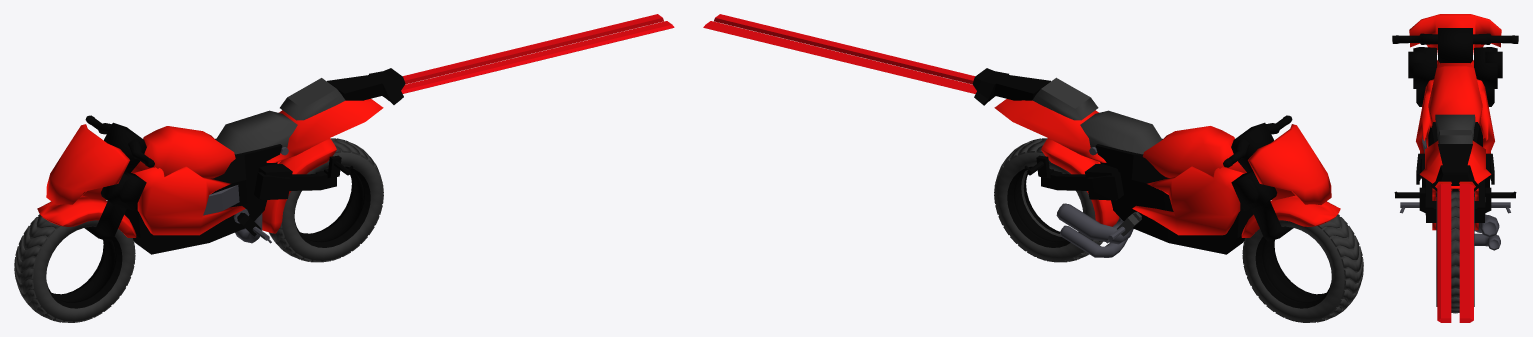
The model's file is moto.glb.
3 views of the same model, side by side, from view 1: azimuth 30°, elevation 25°; view 2: azimuth 150°, elevation 25°; view 3: azimuth 270°, elevation 25° (orthographic).
Visible parts, largest first — view 1: moto, helm, wheel, wheel_front, trace; view 2: moto, helm, wheel, wheel_front, trace; view 3: moto, helm, trace, wheel_front.
Part boxes in pixels (x1=…): moto: x1=124, y1=68, x2=405, y2=254; helm: x1=37, y1=115, x2=154, y2=241; wheel: x1=14, y1=214, x2=135, y2=322; wheel_front: x1=269, y1=138, x2=383, y2=262; trace: x1=401, y1=14, x2=674, y2=93; moto: x1=972, y1=68, x2=1253, y2=257; helm: x1=1223, y1=115, x2=1340, y2=241; wheel: x1=1242, y1=214, x2=1363, y2=322; wheel_front: x1=994, y1=138, x2=1102, y2=262; trace: x1=703, y1=14, x2=976, y2=93; moto: x1=1394, y1=63, x2=1516, y2=250; helm: x1=1392, y1=14, x2=1518, y2=106; trace: x1=1437, y1=184, x2=1473, y2=322; wheel_front: x1=1436, y1=191, x2=1474, y2=313.
Bounding box in the file's own units: 21.64 × 5.72 × 3.63.
